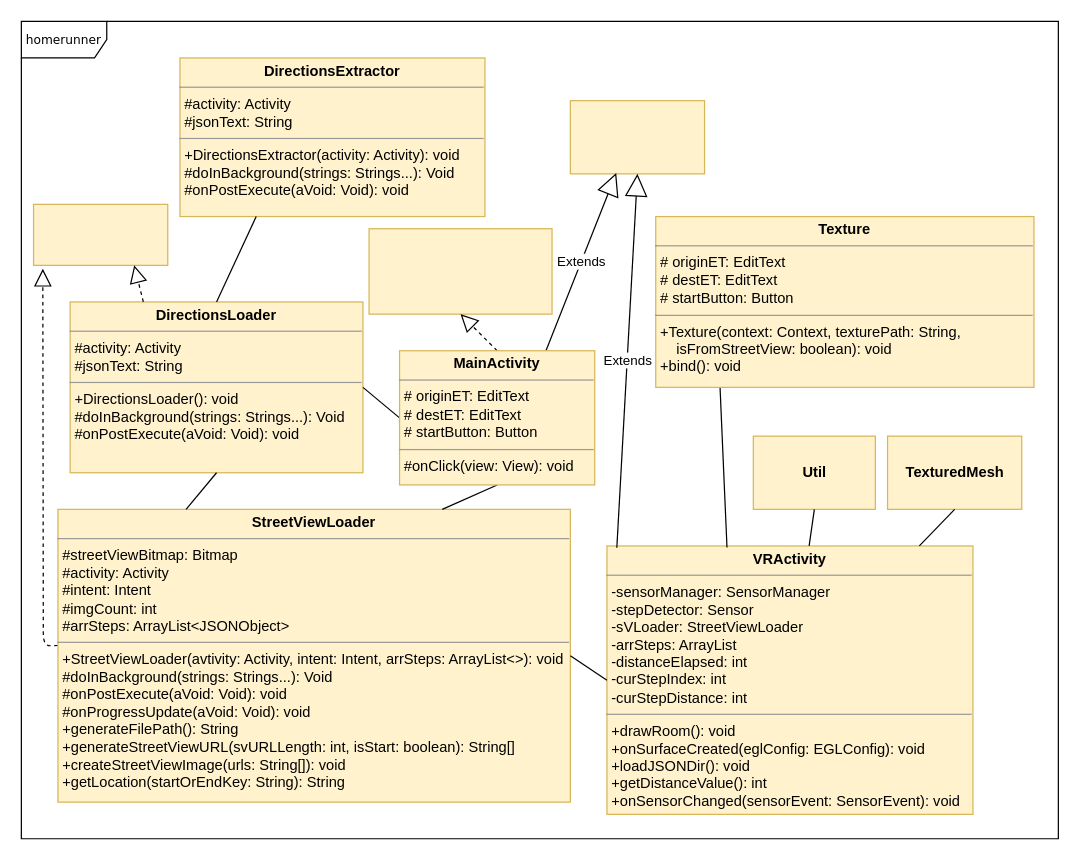
Image size: 1080x860. Some labels were removed from this diagram. The centre of each missing label's shape, as x and y in pixels:
Activity: (637,136)
«interface» AsyncTask: (100,234)
«interface» View.OnClickListener: (460,271)
